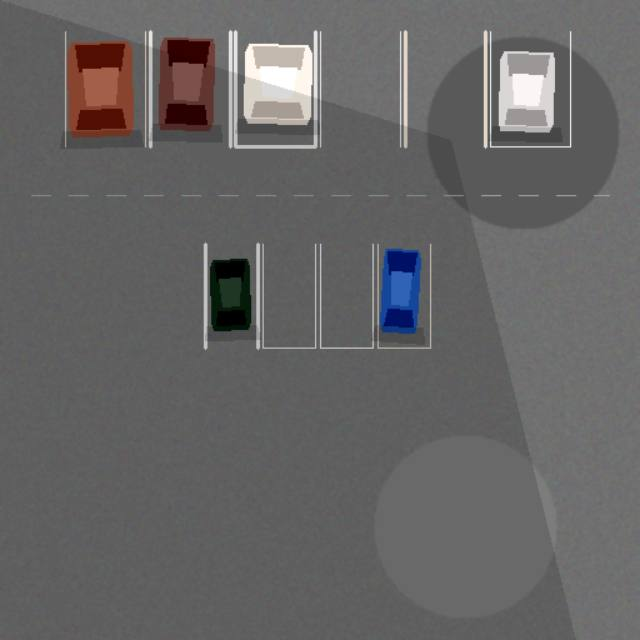space-empty: (320, 31, 400, 146), (405, 31, 485, 146), (320, 244, 373, 347), (263, 244, 315, 347)
space-occupied: (65, 31, 145, 146), (150, 31, 230, 146), (235, 31, 315, 146), (490, 31, 570, 146), (377, 244, 430, 347), (205, 244, 257, 347)
